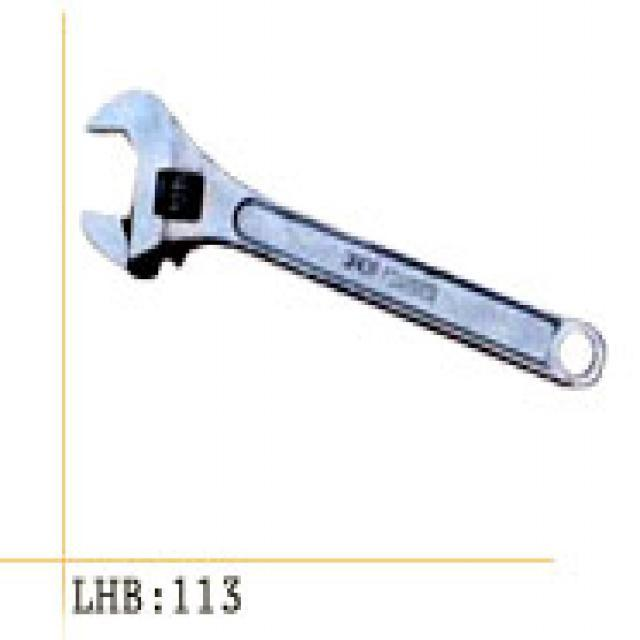wrench: (74, 83, 612, 404)
